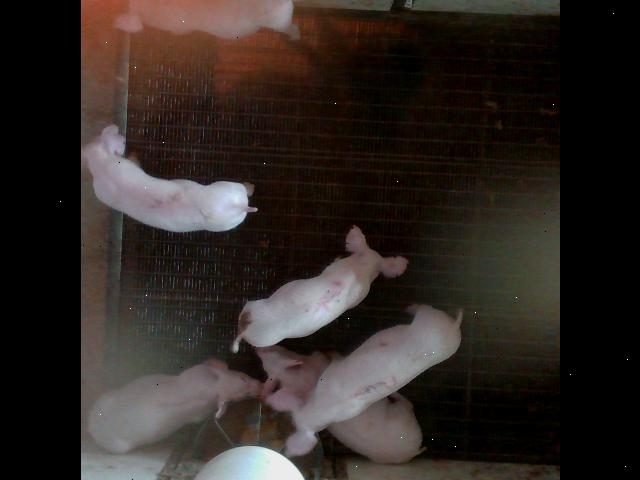pig-3: (264, 305, 461, 456)
pig-4: (114, 0, 298, 39)
pig-5: (231, 226, 408, 352)
